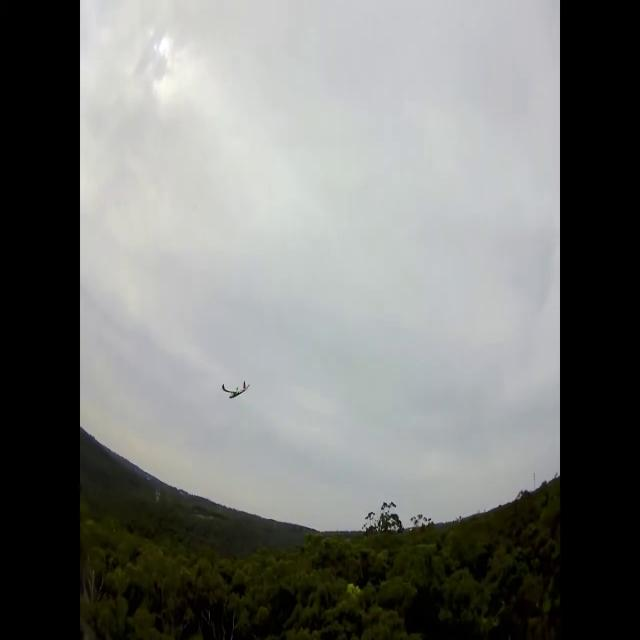iha: (222, 381, 250, 399)
